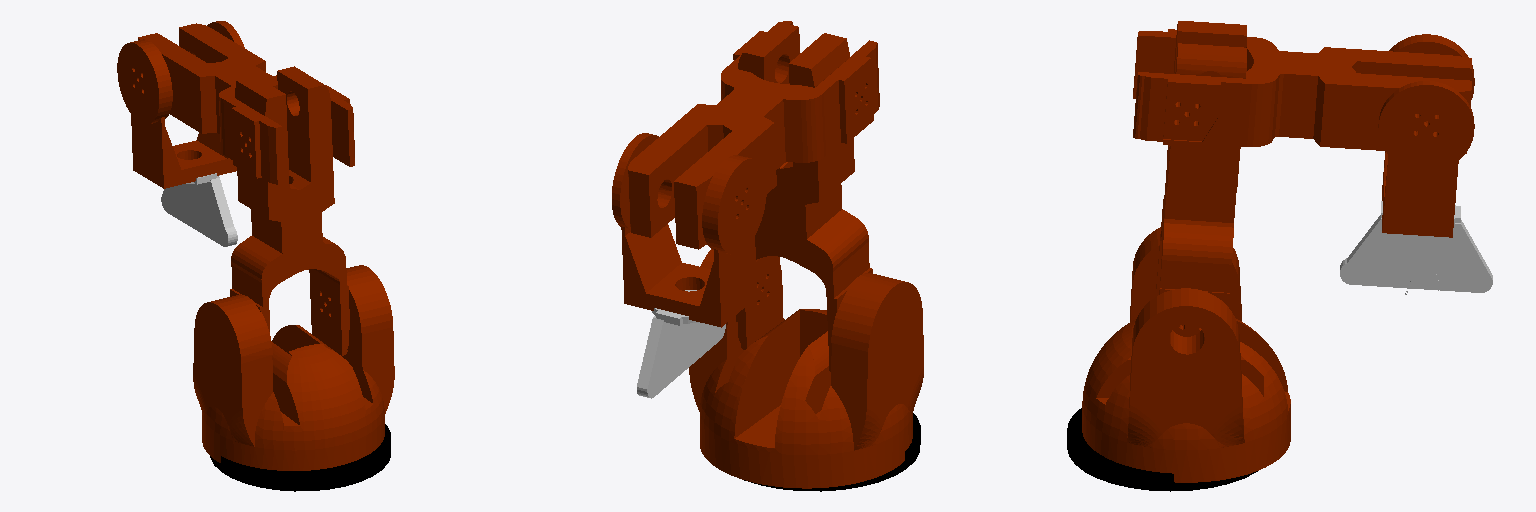
The robot description file, URDF, robot "Braccio":
<?xml version="1.0"?>
<robot name="Braccio">
    <!-- Color de materiales -->
    <material name="orange">
        <color rgba="0.58 0.18 0.0 1" />
    </material>
    <material name="white">
        <color rgba="0.8 0.8 0.8 1.0" />
    </material>
    <material name="black">
        <color rgba="0 0 0 0.50" />
    </material>

    <!--Mascaras para partes del robot-->
    <link name="base_link">
        <visual>
            <geometry>
                <cylinder length="0.01" radius=".053" />
            </geometry>
            <material name="black" />
            <origin rpy="0 0 0" xyz="0 0 0" />
        </visual>
    </link>

    <link name="braccio_base_link">
        <visual>
            <geometry>
                <mesh filename="package://BRT_Description/meshes/braccio_base.stl" scale="0.01 0.01 0.01" />
            </geometry>
            <material name="orange" />
            <origin rpy="0 0 0" xyz="0 0.004 0" />
        </visual>
    </link>

    <link name="shoulder_link">
        <visual>
            <geometry>
                <mesh filename="package://BRT_Description/meshes/braccio_shoulder.stl" scale="0.01 0.01 0.01" />
            </geometry>
            <material name="orange" />
            <origin rpy="0 0 0" xyz="-0.0045 0.018 -0.017" />
        </visual>
    </link>

    <link name="elbow_link">
        <visual>
            <geometry>
                <mesh filename="package://BRT_Description/meshes/braccio_elbow.stl" scale="0.01 0.01 0.01" />
            </geometry>
            <material name="orange" />
            <origin rpy="0 0 0" xyz="-0.0045 0.005 -0.025" />
        </visual>
    </link>

    <link name="wrist_pitch_link">
        <visual>
            <geometry>
                <mesh filename="package://BRT_Description/meshes/braccio_wrist_pitch.stl" scale="0.01 0.01 0.01" />
            </geometry>
            <material name="orange" />
            <origin rpy="0 0 0" xyz="0.003 -0.0004 -0.024" />
        </visual>
    </link>

    <link name="wrist_roll_link">
        <visual>
            <geometry>
                <mesh filename="package://BRT_Description/meshes/braccio_wrist_roll.stl" scale="0.01 0.01 0.01" />
            </geometry>
            <material name="white" />
            <origin rpy="0 0 0" xyz="0.006 0 0.0" />
        </visual>
    </link>

    <link name="left_gripper_link">
        <visual>
            <geometry>
                <mesh filename="package://BRT_Description/meshes/braccio_left_gripper.stl" scale="0.001 0.001 0.001" />
            </geometry>
            <material name="white" />
            <origin rpy="0 1.5708 0" xyz="0 -0.012 0" />
        </visual>
    </link>

    <link name="right_gripper_link">
        <visual>
            <geometry>
                <mesh filename="package://BRT_Description/meshes/braccio_right_gripper.stl" scale="0.001 0.001 0.001" />
            </geometry>
            <material name="white" />
            <origin rpy="0 1.5708 0" xyz="0 -0.012 0.010" />
        </visual>
    </link>

    <!--Articulaciones del robot-->

    <joint name="base_joint" type="revolute">
        <axis xyz="0 0 -1" />
        <limit effort="1000.0" lower="0.0" upper="3.1416" velocity="1.0" />
        <origin rpy="0 0 0" xyz="0 0 0" />
        <parent link="base_link" />
        <child link="braccio_base_link" />
    </joint>

    <joint name="shoulder_joint" type="revolute">
        <axis xyz="1 0 0" />
        <limit effort="1000.0" lower="0.2" upper="2.8" velocity="1.0" />
        <origin rpy="-1.5708 0 0" xyz="0 -0.002 0.072" />
        <parent link="braccio_base_link" />
        <child link="shoulder_link" />
    </joint>

    <joint name="elbow_joint" type="revolute">
        <axis xyz="1 0 0" />
        <limit effort="1000.0" lower="0.0" upper="3.1416" velocity="1.0" />
        <origin rpy="-1.5708 0 0" xyz="0 0 0.125" />
        <parent link="shoulder_link" />
        <child link="elbow_link" />
    </joint>

    <joint name="wrist_pitch_joint" type="revolute">
        <axis xyz="1 0 0" />
        <limit effort="1000.0" lower="0.0" upper="3.1416" velocity="1.0" />
        <origin rpy="-1.5708 0 0" xyz="0 0 0.125" />
        <parent link="elbow_link" />
        <child link="wrist_pitch_link" />
    </joint>

    <joint name="wrist_roll_joint" type="revolute">
        <axis xyz="0 0 -1" />
        <limit effort="1000.0" lower="0.0" upper="3.1416" velocity="1.0" />
        <origin rpy="0 0 1.5708" xyz="0 0.0 0.06" />
        <parent link="wrist_pitch_link" />
        <child link="wrist_roll_link" />
    </joint>

    <joint name="gripper_joint" type="revolute">
        <axis xyz="0 -1 0" />
        <limit effort="1000.0" lower="0.95" upper="1.54" velocity="1.0" />
        <origin rpy="0 0 0" xyz="0.010 0 0.03" />
        <parent link="wrist_roll_link" />
        <child link="right_gripper_link" />
    </joint>

    <joint name="sub_gripper_joint" type="revolute">
        <axis xyz="0 1 0" />
        <mimic joint="gripper_joint" />
        <limit effort="1000.0" lower="0.95" upper="1.54" velocity="1.0" />
        <origin rpy="0 3.1416 0" xyz="-0.010 0 0.03" />
        <parent link="wrist_roll_link" />
        <child link="left_gripper_link" />
    </joint>
    
    <link name="world"/>
    <joint name="world_joint" type="fixed">
        <parent link="world"/>
        <child link="base_link"/>
        <origin rpy="0.0 0.0 0.0" xyz="0.0 0.0 0.0"/>
    </joint>
    
</robot>

--- What the picture shows (computed from the rendered views, not written in the file) ---
The picture shows the robot from 3 angles, left to right: view 1: azimuth 30°, elevation 25°; view 2: azimuth 150°, elevation 25°; view 3: azimuth 270°, elevation 25°; orthographic projection.
Model Braccio with 9 links and 8 joints (7 revolute, 1 fixed), rooted at world, posed all joints at 0 but 3 set to mid-range because 0 is outside their limits (shoulder_joint = 1.5, gripper_joint = 1.25, sub_gripper_joint = 1.25).
Links seen in each view (by area): view 1: braccio_base_link, shoulder_link, elbow_link, wrist_pitch_link, base_link, wrist_roll_link; view 2: braccio_base_link, elbow_link, shoulder_link, wrist_pitch_link, wrist_roll_link, base_link; view 3: braccio_base_link, elbow_link, shoulder_link, wrist_pitch_link, wrist_roll_link, base_link.
Link boxes in pixels (box(x1,y1,x2,y2)): braccio_base_link: box(193, 265, 394, 470); shoulder_link: box(230, 66, 349, 355); elbow_link: box(138, 23, 354, 184); wrist_pitch_link: box(117, 21, 244, 188); base_link: box(210, 424, 390, 491); wrist_roll_link: box(161, 173, 237, 246); braccio_base_link: box(689, 249, 923, 488); elbow_link: box(628, 21, 879, 249); shoulder_link: box(736, 22, 872, 371); wrist_pitch_link: box(612, 133, 766, 327); wrist_roll_link: box(637, 290, 725, 398); base_link: box(744, 413, 920, 491); braccio_base_link: box(1082, 227, 1290, 482); elbow_link: box(1133, 29, 1471, 153); shoulder_link: box(1156, 21, 1246, 336); wrist_pitch_link: box(1378, 34, 1474, 237); wrist_roll_link: box(1340, 201, 1492, 292); base_link: box(1067, 408, 1257, 491).
Bounding box of the posed robot: 0.1065 × 0.2173 × 0.2308 m (x, y, z).
7 mesh visuals loaded from 7 distinct referenced files (7 binary STL).